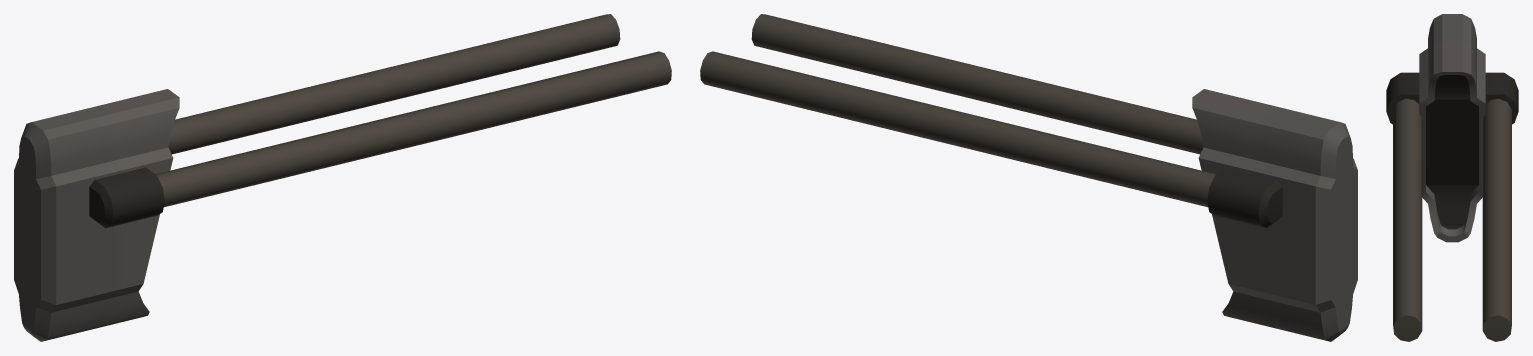
File: SR2_ButtstockLight.fbx
3 renders of one model, left to right at view 1: azimuth 30°, elevation 25°; view 2: azimuth 150°, elevation 25°; view 3: azimuth 270°, elevation 25°, orthographic. The views are drawn at different scales.
Parts seen in each view (by area): view 1: SR2_ButtstockLight; view 2: SR2_ButtstockLight; view 3: SR2_ButtstockLight.
Boxes of the visible parts, left/top/right/bottom form: SR2_ButtstockLight: left=14, top=14, right=671, bottom=341; SR2_ButtstockLight: left=700, top=14, right=1357, bottom=341; SR2_ButtstockLight: left=1386, top=14, right=1518, bottom=341.
Size of the model in its own units: 46.71 by 15.58 by 10.08.
